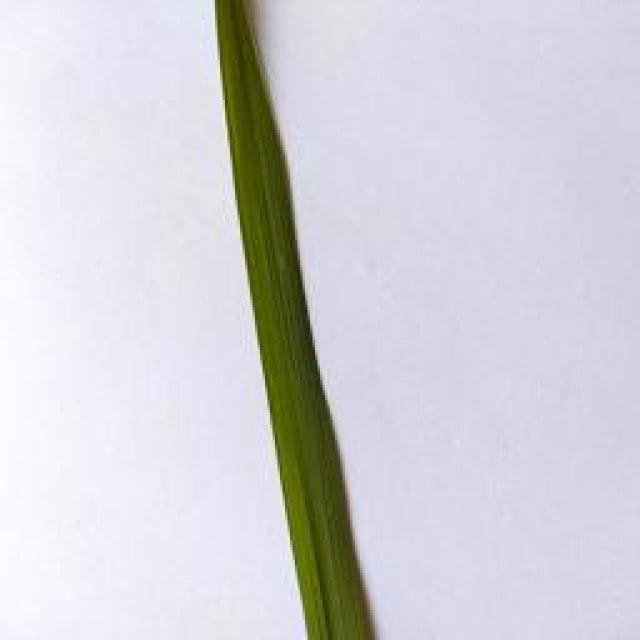Healthy: (213, 0, 374, 640)
